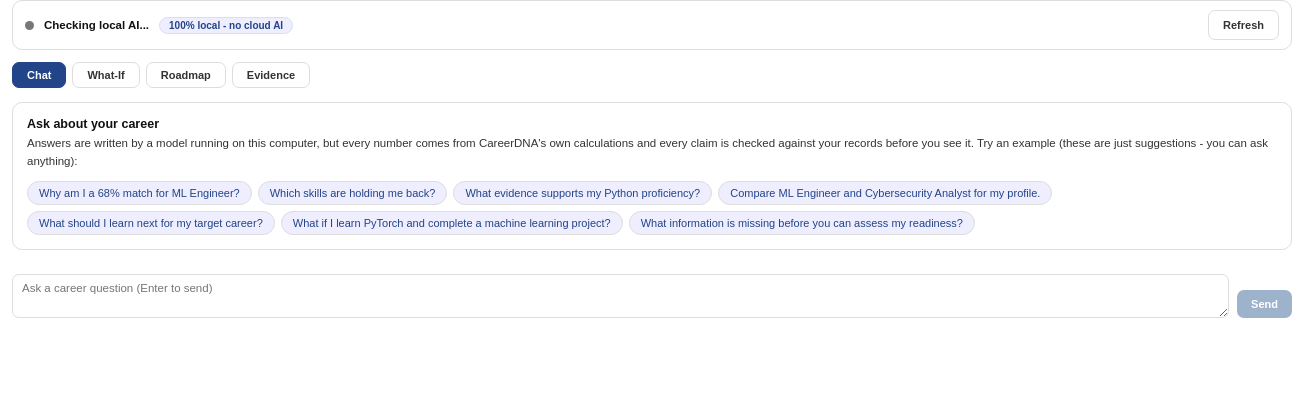
Test: chat › explains removed statements instead of hiding them
What coordinates should you click on to do the following:
click the button "Which skills are holding me back?"
I would click on:
 (353, 193)
Its box is [258,181,447,205].
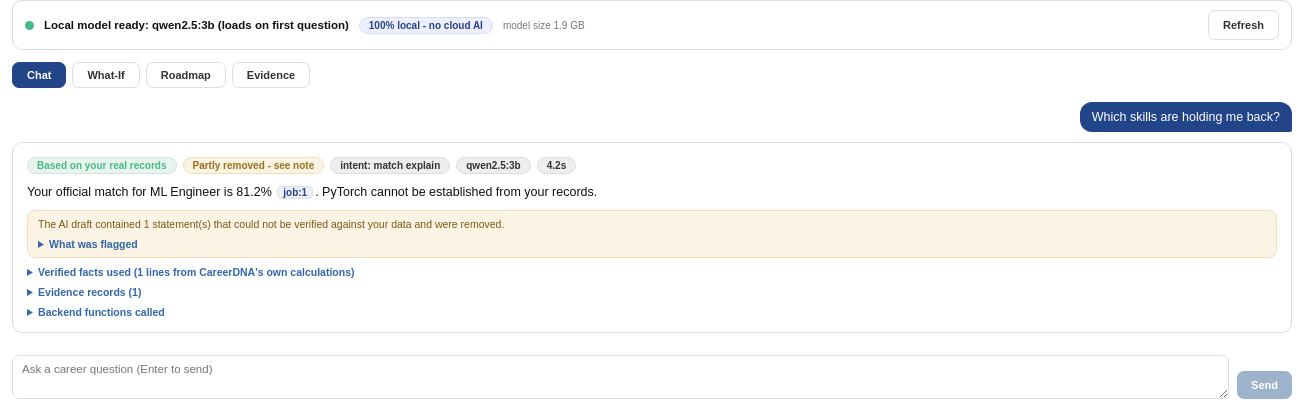
Expected: the text "could not be verified against your data" is shown, [150,218,412,230]
Expected: the text "Partly removed - see note" is shown, [182,157,324,174]
